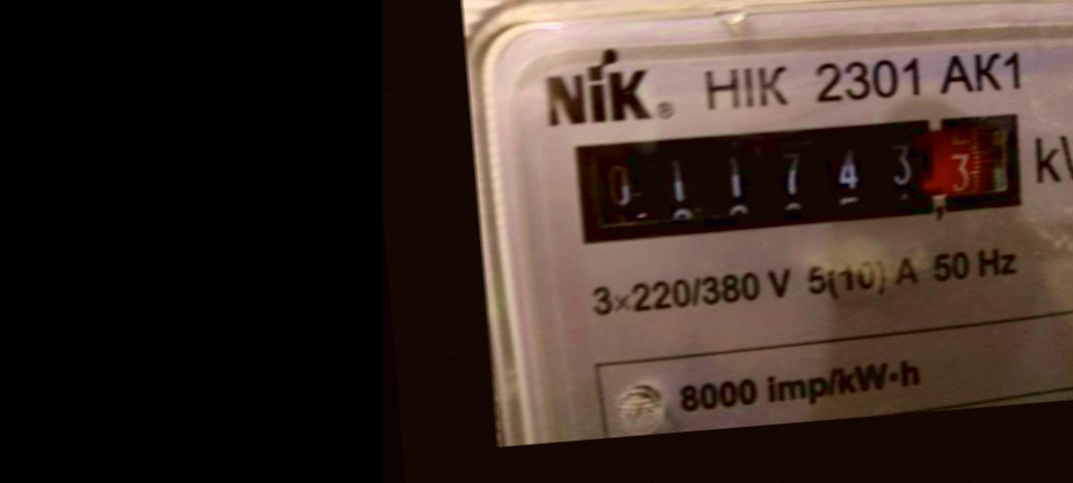0: (603, 161, 635, 210)
1: (722, 153, 747, 202), (668, 157, 688, 207)
3: (886, 141, 918, 190), (947, 150, 974, 196)
4: (832, 144, 864, 194)
7: (778, 150, 806, 200)
screen: (559, 100, 1033, 256)
